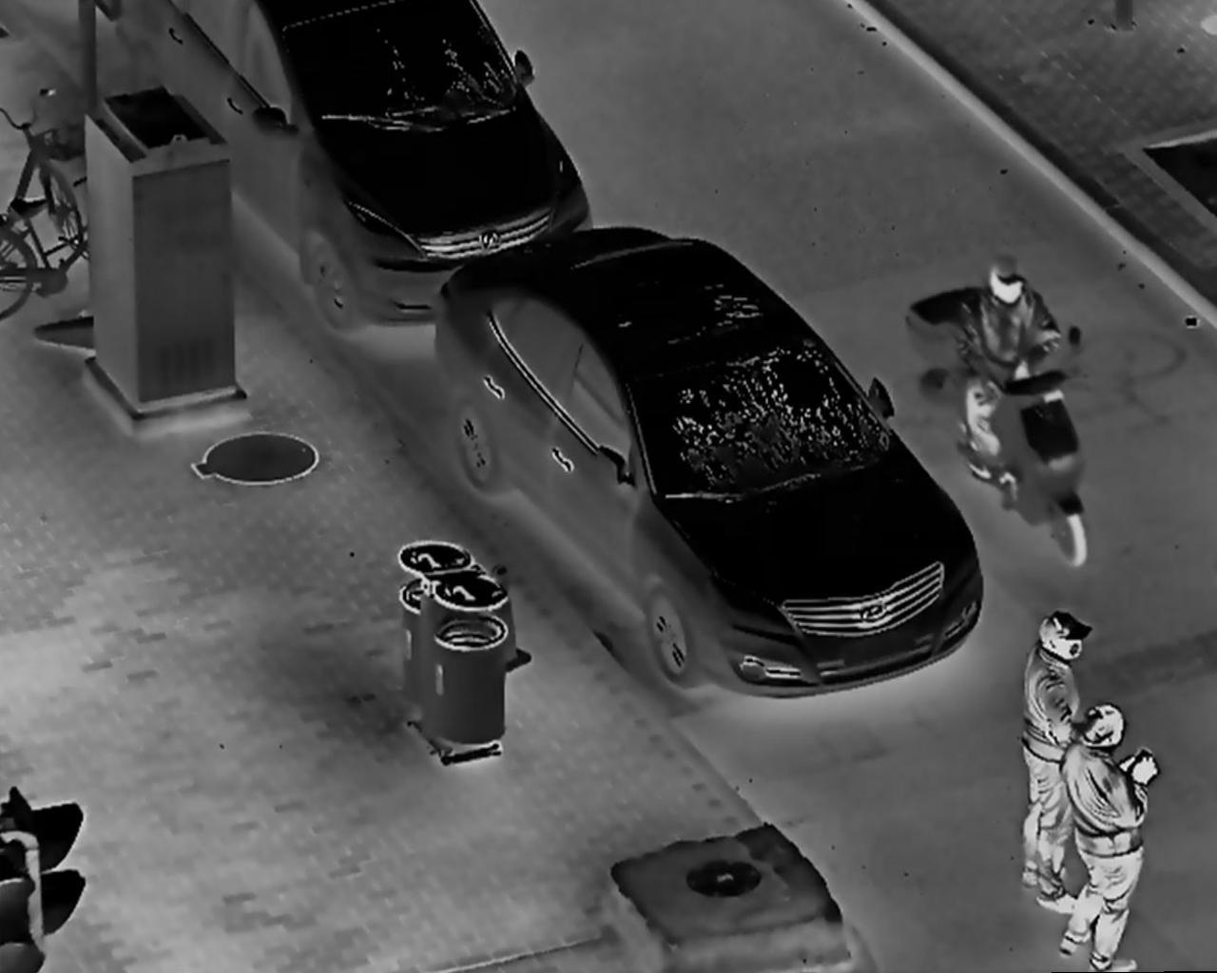person: (1059, 707, 1150, 970), (966, 258, 1070, 482), (1020, 612, 1090, 915)
